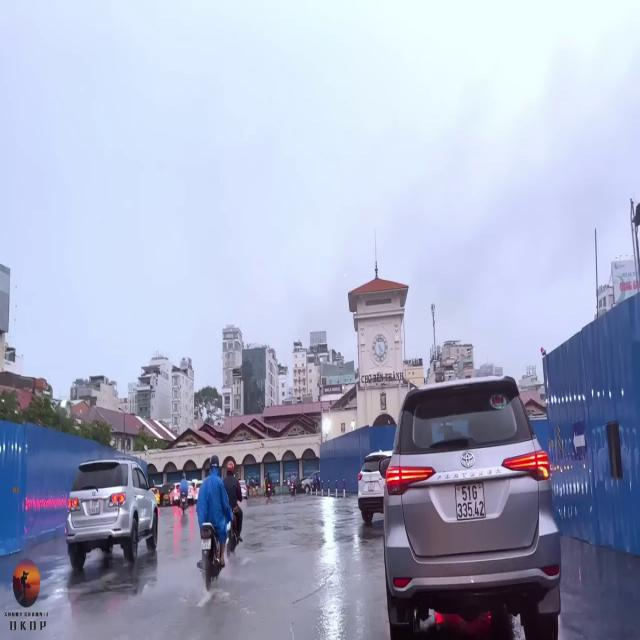bien_trang: (452, 482, 485, 519), (88, 499, 100, 514)
